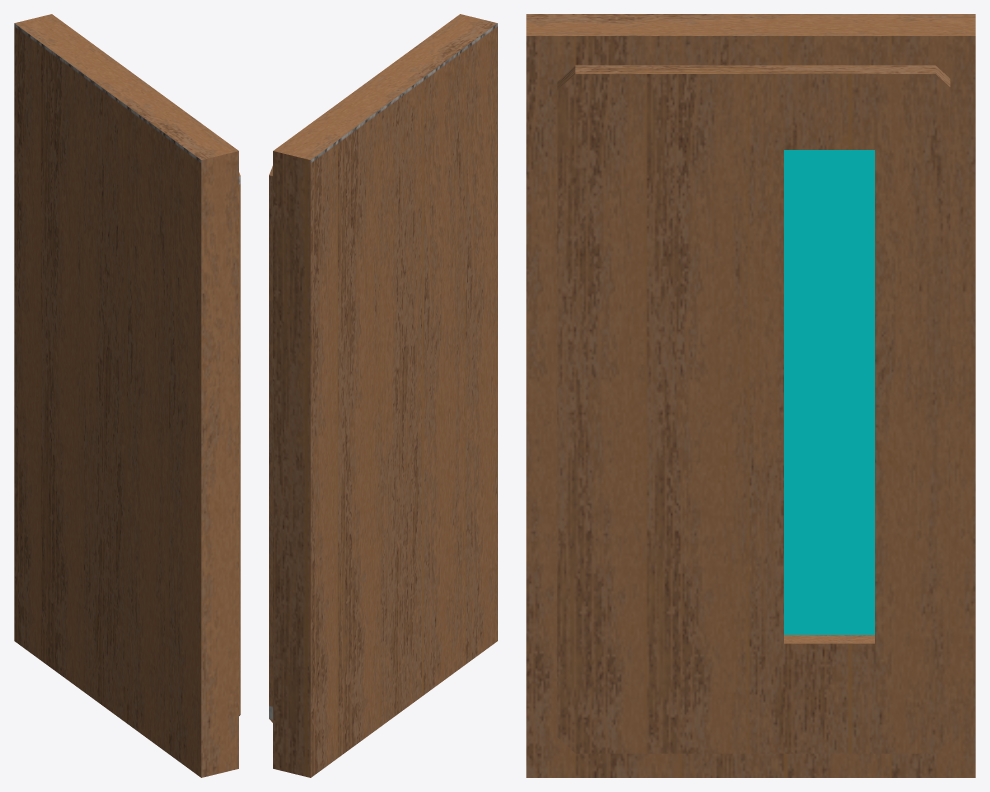
File: door 1.fbx
3 renders of one model, left to right at view 1: azimuth 30°, elevation 25°; view 2: azimuth 150°, elevation 25°; view 3: azimuth 270°, elevation 25°, orthographic. The views are drawn at different scales.
Visible parts, largest first — view 1: Door; view 2: Door; view 3: Door.
Part boxes in pixels (left/top/right/bottom): Door: left=14, top=14, right=240, bottom=777; Door: left=269, top=14, right=497, bottom=777; Door: left=526, top=14, right=975, bottom=777.
Bounding box in the file's own units: 1.7 × 19.19 × 10.53.
2 materials, 1 textured.
